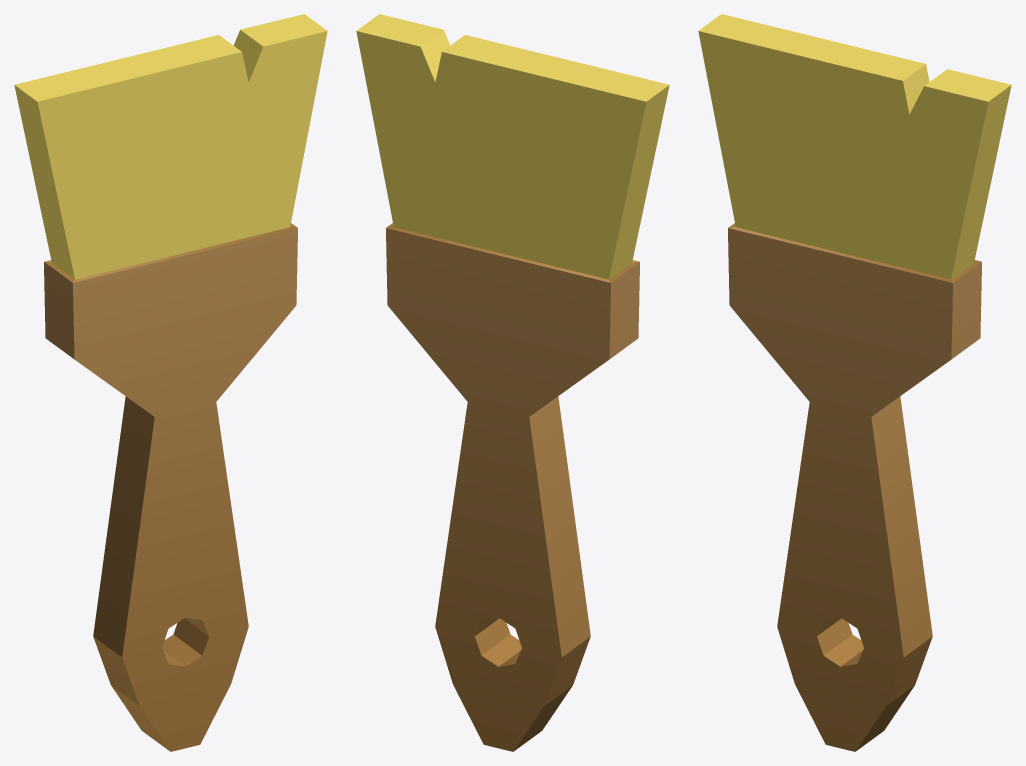
File: paintbrush.fbx
3 renders of one model, left to right at view 1: azimuth 30°, elevation 25°; view 2: azimuth 150°, elevation 25°; view 3: azimuth 330°, elevation 25°, orthographic.
Parts seen in each view (by area): view 1: paintbrush; view 2: paintbrush; view 3: paintbrush.
Part boxes in pixels (<box>): paintbrush: <box>14,14,327,751</box>; paintbrush: <box>356,14,669,751</box>; paintbrush: <box>698,14,1011,751</box>.
Bounding box in the file's own units: 9.52 × 21.31 × 1.65.
